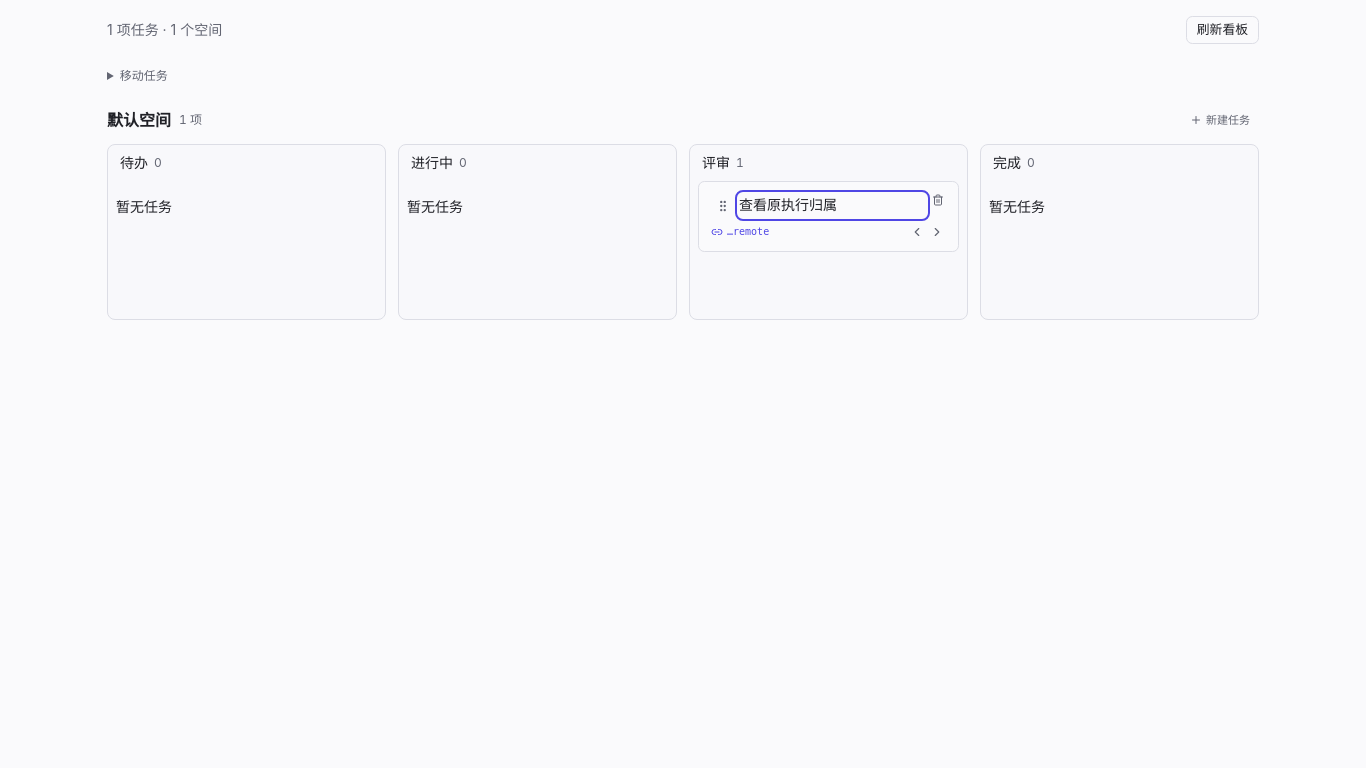
reads task details explicitly, retries and returns focus without task mutations
Click the button with aria-label "查看任务详情：查看原执行归属".
click(832, 205)  # box [739,194,926,217]
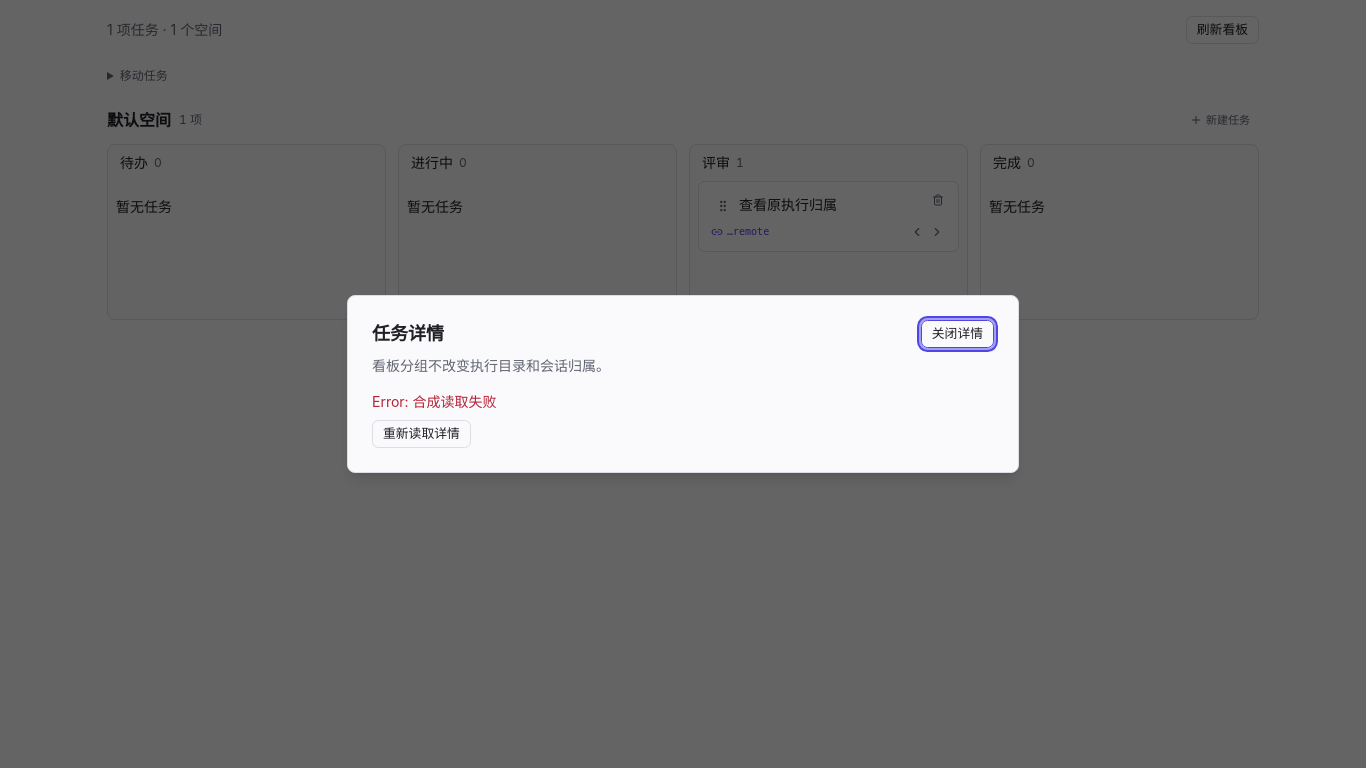
Expected: the message "Error: 合成读取失败" is shown, [372,393,497,410]
Click the button "重新读取详情".
click(421, 434)  # box [372,420,471,448]
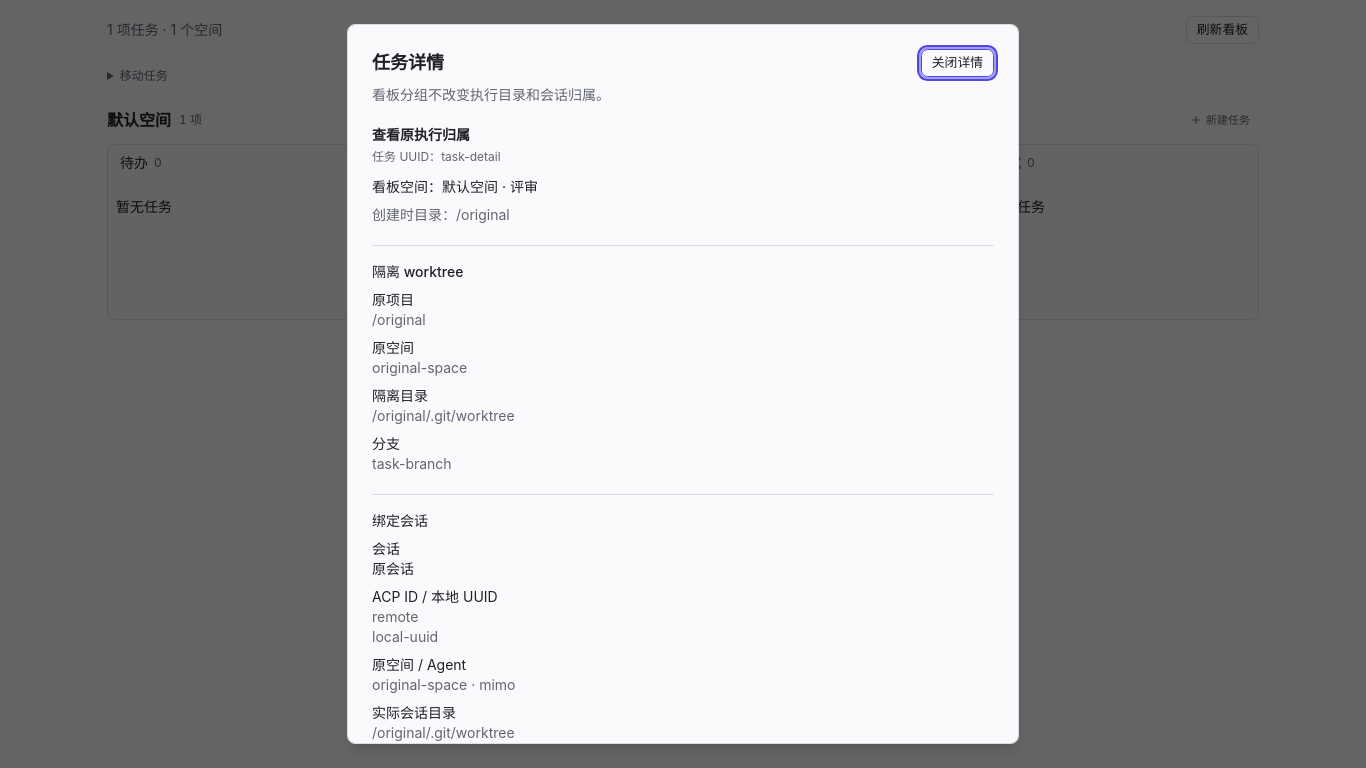
Expected: the text "原会话" is shown, [372,560,414,577]
Expected: the text "创建时目录：/original" is shown, [372,206,510,223]
Expected: the text "/original/.git/worktree" is shown 2 times, [372,407,515,424]; [372,724,515,741]
Press Escape in the dialog, box [347,24,1019,744]
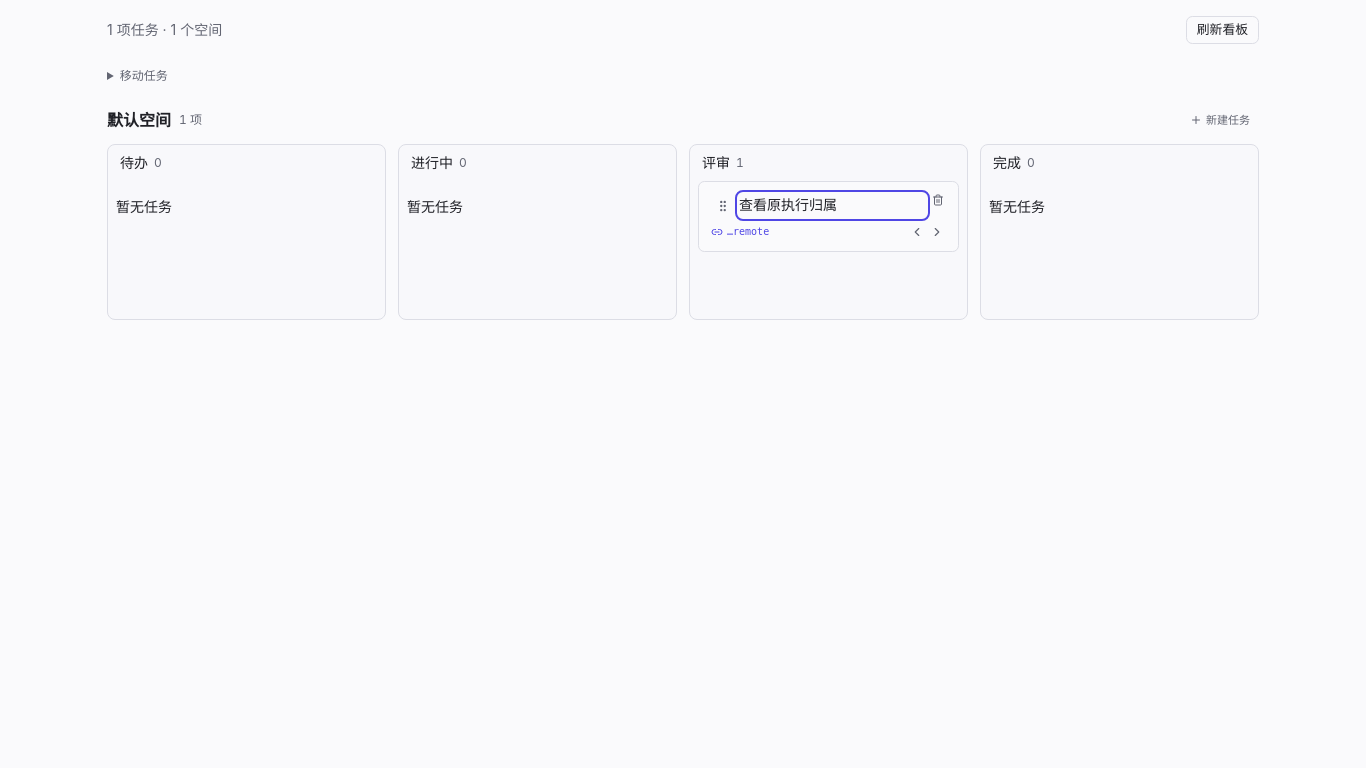
Expected: the dialog is gone
